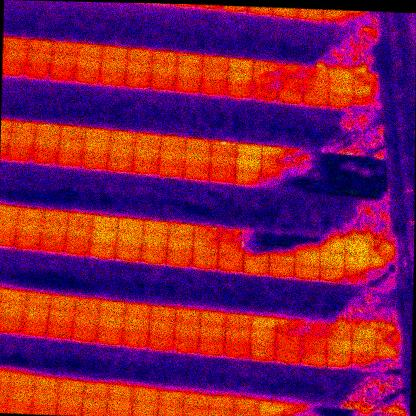Hotspot: (233, 398, 259, 416), (149, 305, 174, 323), (225, 313, 250, 330), (211, 141, 236, 158), (218, 242, 244, 258), (67, 212, 93, 228), (42, 209, 69, 224), (202, 54, 227, 70), (153, 49, 178, 65), (35, 123, 61, 138), (218, 228, 243, 243), (193, 226, 218, 241), (353, 72, 378, 86), (53, 42, 78, 56), (352, 85, 377, 98)
Normal: (55, 395, 83, 414), (207, 395, 234, 414), (6, 390, 33, 408), (10, 373, 35, 392), (97, 315, 123, 333), (107, 384, 133, 402), (13, 234, 40, 251), (251, 315, 276, 333), (175, 307, 200, 325), (50, 294, 75, 312), (0, 288, 25, 306), (32, 392, 57, 410), (192, 252, 217, 270), (183, 393, 208, 411), (159, 390, 184, 408), (134, 388, 159, 406), (81, 399, 107, 416), (318, 267, 345, 283), (140, 249, 167, 265), (63, 240, 90, 256), (90, 229, 117, 245), (92, 214, 119, 230), (18, 207, 45, 223), (159, 135, 186, 151), (73, 69, 100, 85), (123, 318, 148, 335), (200, 310, 225, 327), (125, 303, 150, 320), (75, 297, 100, 314), (83, 382, 108, 399), (32, 149, 57, 166), (58, 379, 83, 396), (301, 336, 326, 353), (64, 226, 92, 241), (275, 334, 301, 350), (326, 324, 352, 340), (99, 300, 125, 316), (294, 264, 320, 280), (268, 262, 294, 278), (243, 259, 269, 275), (319, 252, 345, 268), (107, 158, 133, 174), (110, 130, 136, 146), (302, 92, 328, 108), (177, 52, 203, 68), (249, 346, 275, 362), (198, 341, 224, 357), (34, 376, 58, 393), (115, 245, 142, 260), (89, 244, 116, 259), (115, 231, 142, 246), (40, 223, 67, 238), (117, 217, 144, 232), (134, 133, 161, 148), (200, 326, 225, 342), (174, 324, 199, 340), (48, 310, 73, 326), (23, 308, 48, 324), (25, 292, 50, 308), (209, 168, 234, 184), (210, 155, 235, 171), (58, 138, 83, 154), (328, 94, 353, 110), (126, 59, 151, 75), (28, 39, 53, 55), (300, 352, 325, 368), (224, 344, 249, 360), (148, 336, 173, 352), (46, 325, 72, 340), (166, 251, 192, 266), (40, 237, 66, 252), (142, 234, 168, 249), (167, 222, 193, 237), (142, 220, 168, 235), (157, 164, 183, 179), (131, 161, 157, 176), (57, 153, 83, 168), (6, 148, 32, 163), (133, 147, 159, 162), (8, 134, 34, 149), (185, 138, 211, 153), (48, 67, 74, 82), (24, 65, 50, 80), (327, 69, 353, 84), (100, 58, 126, 73), (75, 56, 101, 71), (127, 47, 153, 62), (297, 9, 323, 24), (121, 334, 147, 349), (96, 332, 122, 347), (71, 329, 97, 344), (11, 121, 35, 137), (16, 221, 43, 235), (172, 340, 199, 354), (106, 402, 133, 416), (22, 323, 47, 338), (225, 329, 250, 344), (149, 321, 174, 336), (73, 314, 98, 329), (259, 401, 284, 416), (295, 250, 320, 265), (344, 241, 369, 256), (82, 155, 107, 170), (236, 143, 261, 158), (60, 125, 85, 140), (226, 85, 251, 100), (200, 81, 225, 96), (125, 74, 150, 89), (327, 81, 352, 96), (99, 72, 124, 87), (51, 54, 76, 69), (228, 58, 253, 73), (102, 45, 127, 60), (325, 353, 350, 368), (276, 349, 301, 364), (250, 332, 276, 346), (217, 258, 243, 272), (344, 255, 370, 269), (167, 237, 193, 251), (183, 167, 209, 181), (235, 158, 261, 172), (83, 141, 109, 155), (85, 128, 111, 142), (277, 91, 303, 105), (303, 79, 329, 93), (227, 71, 253, 85), (151, 63, 177, 77), (77, 44, 103, 58), (325, 340, 351, 354), (0, 318, 22, 334), (193, 241, 218, 255), (185, 153, 210, 167), (159, 151, 184, 165), (109, 144, 134, 158), (33, 137, 58, 151), (175, 79, 200, 93), (150, 77, 175, 91), (202, 69, 227, 83), (177, 66, 202, 80), (26, 53, 51, 67), (4, 37, 29, 51), (0, 305, 23, 320), (2, 50, 26, 64), (2, 63, 24, 78), (131, 404, 158, 416), (157, 407, 183, 416)
Shadow: (351, 325, 376, 343), (301, 320, 326, 338), (276, 317, 301, 335), (244, 244, 270, 261), (270, 247, 295, 264), (286, 147, 311, 164), (244, 229, 270, 245), (252, 73, 278, 89), (350, 341, 376, 357), (310, 180, 337, 195), (376, 327, 401, 343), (369, 240, 394, 256), (337, 182, 362, 198), (261, 145, 286, 161), (348, 10, 373, 26), (375, 356, 400, 372), (344, 269, 370, 284), (361, 184, 387, 199), (361, 169, 387, 184), (310, 165, 336, 180), (322, 9, 348, 24), (260, 174, 284, 190), (369, 270, 394, 285), (370, 256, 395, 271), (295, 236, 320, 251), (270, 233, 295, 248), (336, 168, 361, 183), (286, 163, 311, 178), (261, 160, 286, 175), (252, 88, 277, 103), (253, 60, 278, 75), (234, 172, 260, 186), (310, 152, 336, 166), (277, 64, 303, 78), (320, 239, 345, 253), (285, 178, 310, 192), (337, 155, 362, 169), (353, 96, 378, 110), (278, 77, 303, 91), (350, 357, 375, 371), (375, 343, 400, 357), (302, 67, 328, 80), (284, 403, 308, 416), (308, 405, 334, 416), (362, 159, 387, 170), (333, 408, 359, 416), (358, 410, 384, 416), (383, 414, 407, 416)
